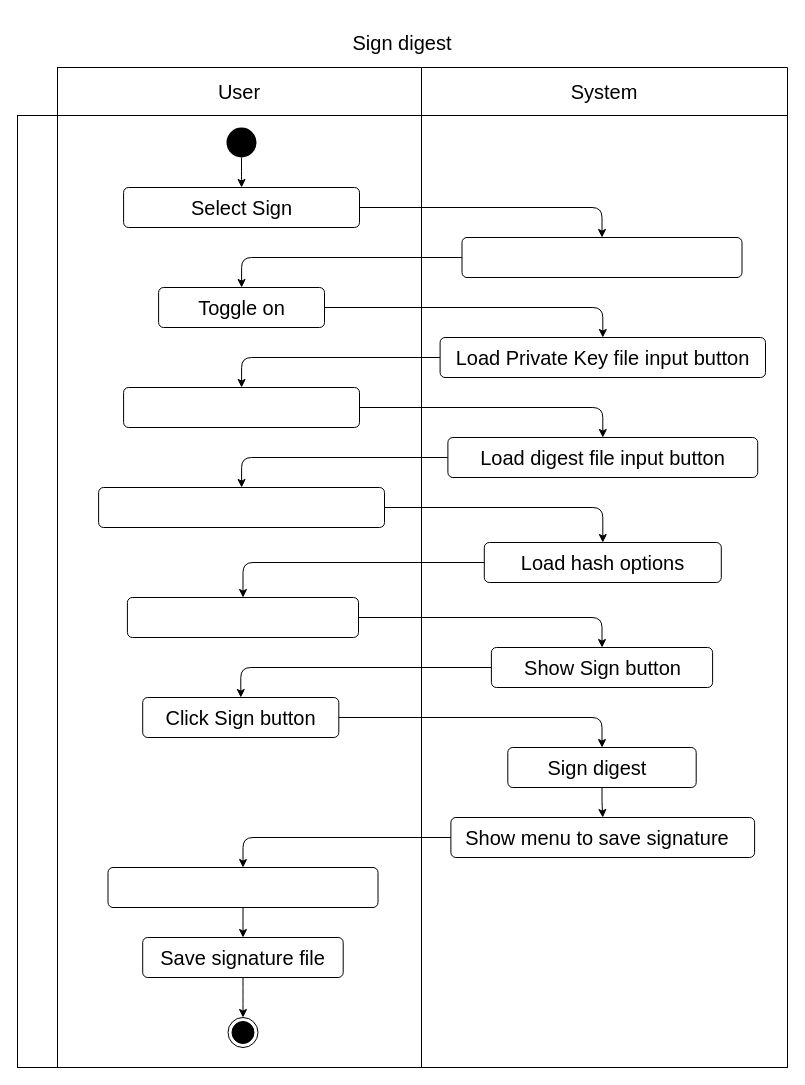
Image size: 805x1085. Some labels were removed from this diagram. The centre of each missing label's shape, as x and y in pixels:
"Define signature filename" goes at (242,887).
"Load Digest switch" goes at (601,257).
"Select digest file to sign" goes at (241,507).
"Select hash option" goes at (242,617).
"Select private key file" goes at (241,407).
